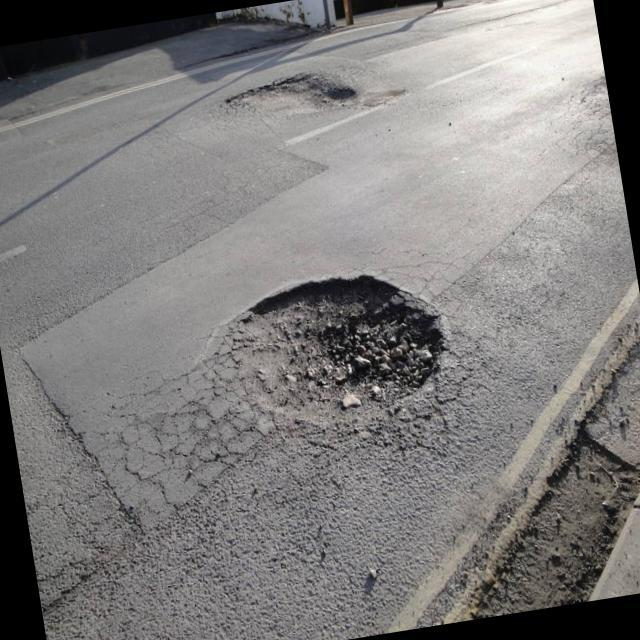Pothole: (135, 214, 518, 482), (333, 410, 640, 637), (200, 32, 433, 146)
